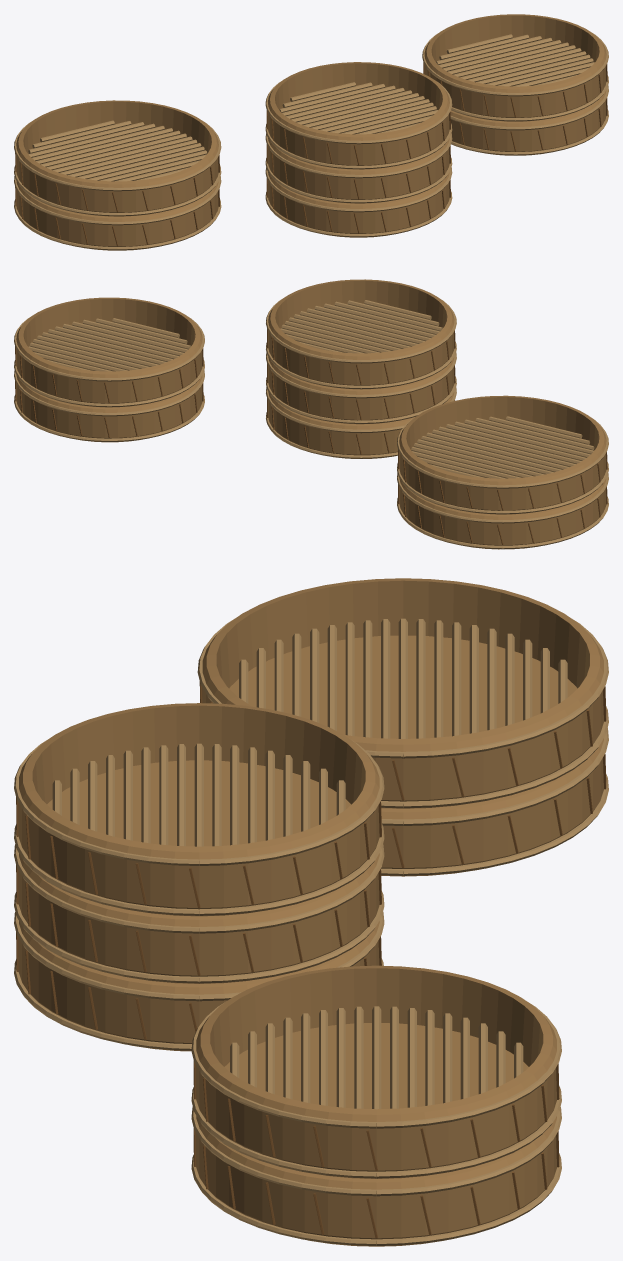
Rendered from steamers.glb.
3 views of the same model, one above another, from view 1: azimuth 30°, elevation 25°; view 2: azimuth 150°, elevation 25°; view 3: azimuth 270°, elevation 25° (orthographic). The views are drawn at different scales.
Parts seen in each view (by area): view 1: 실내 조명 베이크용 steamers; view 2: 실내 조명 베이크용 steamers; view 3: 실내 조명 베이크용 steamers.
Boxes of the visible parts, box(x1,y1,x2,y2) form: 실내 조명 베이크용 steamers: box(14, 14, 608, 250); 실내 조명 베이크용 steamers: box(14, 279, 608, 549); 실내 조명 베이크용 steamers: box(14, 578, 608, 1246).
Size of the model in its own units: 1.45 by 0.254 by 0.6705.
